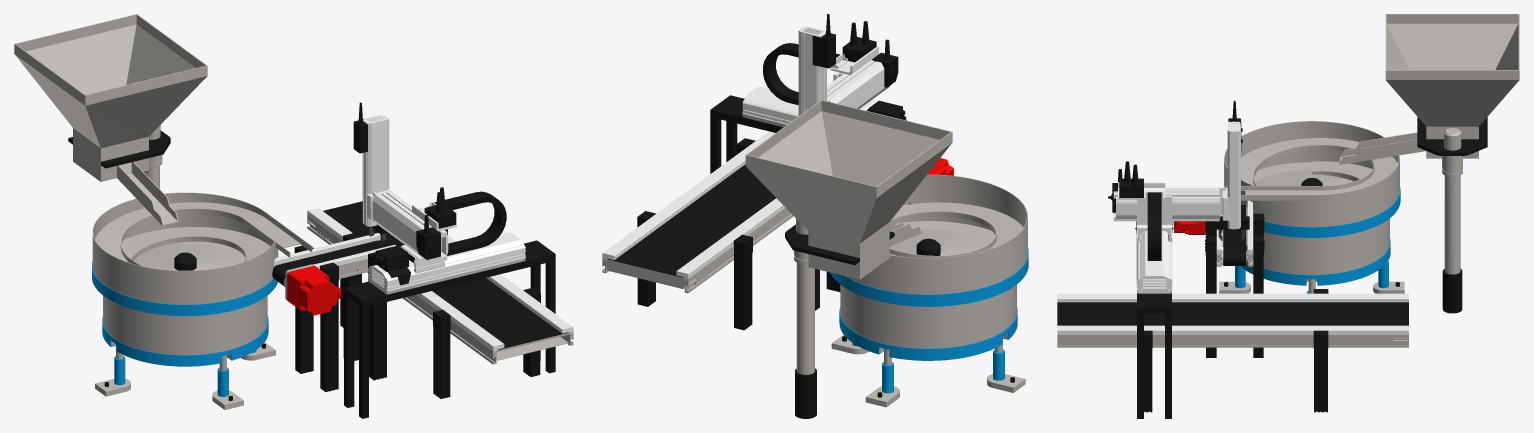
Rendered from Pick_and_Place_Station_Box.glb.
The picture shows the model from 3 angles, left to right: view 1: azimuth 30°, elevation 25°; view 2: azimuth 150°, elevation 25°; view 3: azimuth 270°, elevation 25°; orthographic projection. The views are drawn at different scales.
Visible parts, largest first — view 1: color-12[21].001, color-12[20].001, color-12[5].001, color-12[27].001, color-8.002, color-13[2], color-9.002, color-5[5], color-12.003, color.003, color-11[1], color-12[6].001 (+18 smaller); view 2: color-12[21].001, color-12[20].001, color-12[5].001, color-13[2], color-12[27].001, color-12.003, color-13[3], color-12[6].001, color-12[25].001, color-8.002, color-5[5], color.003 (+16 smaller); view 3: color-12[21].001, color-12[20].001, color-13[2], color-12[27].001, color-12[5].001, color-13[5], color-13[3], color-13[4], color-5[5], color-8.002, color-9.002, color-12[25].001 (+13 smaller).
Boxes of the visible parts, box(x1,y1,x2,y2) form: color-12[21].001: box(14, 14, 207, 225); color-12[20].001: box(92, 192, 278, 304); color-12[5].001: box(103, 295, 267, 358); color-12[27].001: box(95, 202, 312, 266); color-8.002: box(344, 240, 555, 418); color-13[2]: box(323, 201, 568, 349); color-9.002: box(368, 232, 525, 294); color-5[5]: box(366, 189, 448, 263); color-12.003: box(92, 261, 277, 316); color.003: box(362, 114, 389, 226); color-11[1]: box(287, 265, 341, 315); color-12[6].001: box(102, 316, 268, 366); color-12[21].001: box(745, 100, 952, 279); color-12[20].001: box(847, 174, 1027, 294); color-12[5].001: box(840, 285, 1016, 352); color-13[2]: box(607, 164, 775, 277); color-12[27].001: box(889, 202, 1023, 258); color-12.003: box(830, 248, 1028, 306); color-13[3]: box(602, 131, 775, 259); color-12[6].001: box(839, 307, 1017, 360); color-12[25].001: box(796, 262, 814, 374); color-8.002: box(710, 95, 782, 173); color-5[5]: box(827, 59, 890, 108); color.003: box(798, 26, 826, 115); color-12[21].001: box(1339, 14, 1519, 164); color-12[20].001: box(1224, 121, 1399, 227); color-13[2]: box(1057, 302, 1408, 325); color-12[27].001: box(1224, 138, 1397, 200); color-12[5].001: box(1246, 218, 1389, 281); color-13[5]: box(1057, 335, 1382, 347); color-13[3]: box(1057, 325, 1408, 334); color-13[4]: box(1057, 293, 1408, 302); color-5[5]: box(1113, 187, 1229, 221); color-8.002: box(1137, 292, 1171, 418); color-9.002: box(1136, 224, 1172, 293); color-12[25].001: box(1444, 175, 1460, 274).
Bounding box in the file's own units: 1.13 × 0.79 × 1.31.
